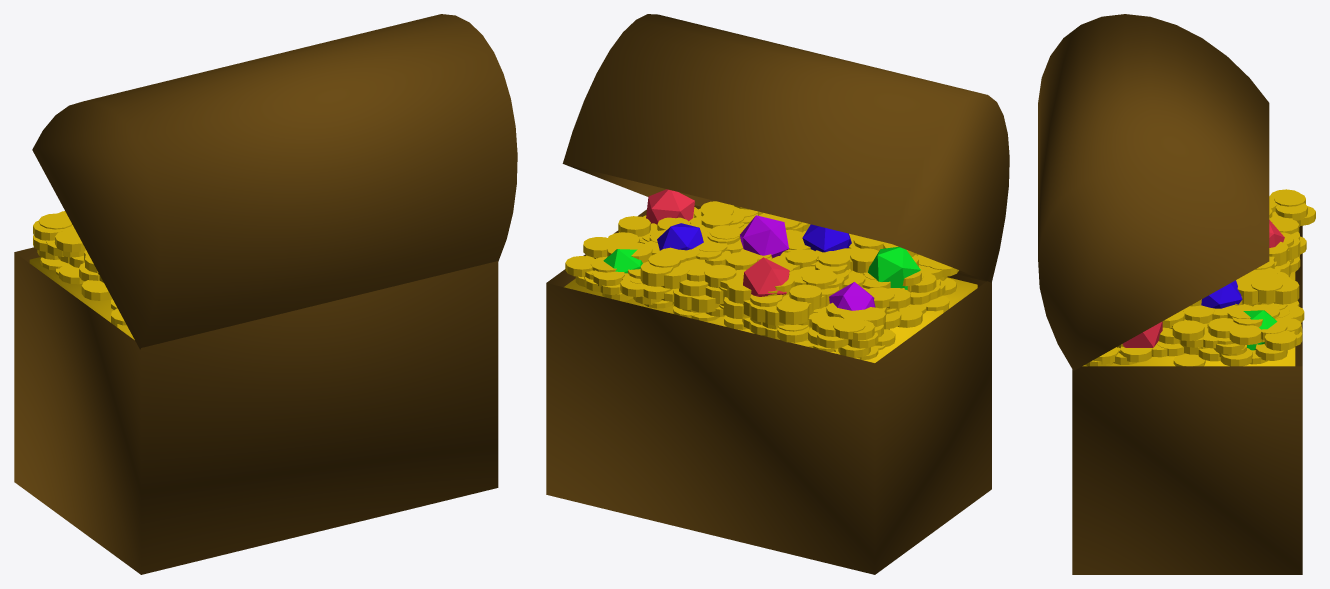
Rendered from treasurechest.fbx.
3 renders of one model, left to right at view 1: azimuth 30°, elevation 25°; view 2: azimuth 150°, elevation 25°; view 3: azimuth 270°, elevation 25°, orthographic. The views are drawn at different scales.
Parts seen in each view (by area): view 1: Cube.001; view 2: Cube.001; view 3: Cube.001.
Boxes of the visible parts, bbox=[...] form: Cube.001: bbox=[14, 14, 517, 574]; Cube.001: bbox=[546, 14, 1009, 574]; Cube.001: bbox=[1038, 14, 1315, 574].
Bounding box in the file's own units: 111 × 131 × 82.08.
